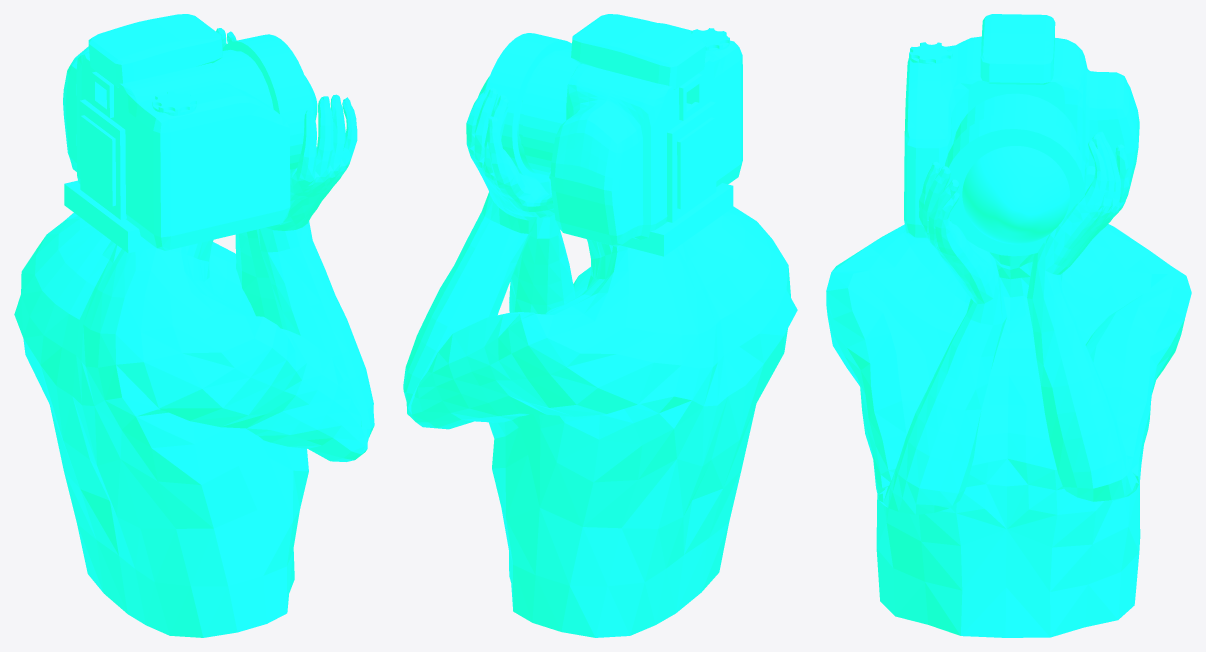
The model's file is DIP163JS.glb.
The picture shows the model from 3 angles, left to right: view 1: azimuth 30°, elevation 25°; view 2: azimuth 150°, elevation 25°; view 3: azimuth 270°, elevation 25°; orthographic projection.
Parts seen in each view (by area): view 1: camera.002; view 2: camera.002; view 3: camera.002.
Part boxes in pixels (left/top/right/bottom): camera.002: left=14, top=14, right=374, bottom=637; camera.002: left=403, top=14, right=797, bottom=637; camera.002: left=826, top=14, right=1191, bottom=637.
Bounding box in the file's own units: 5.87 × 11.08 × 6.48.
